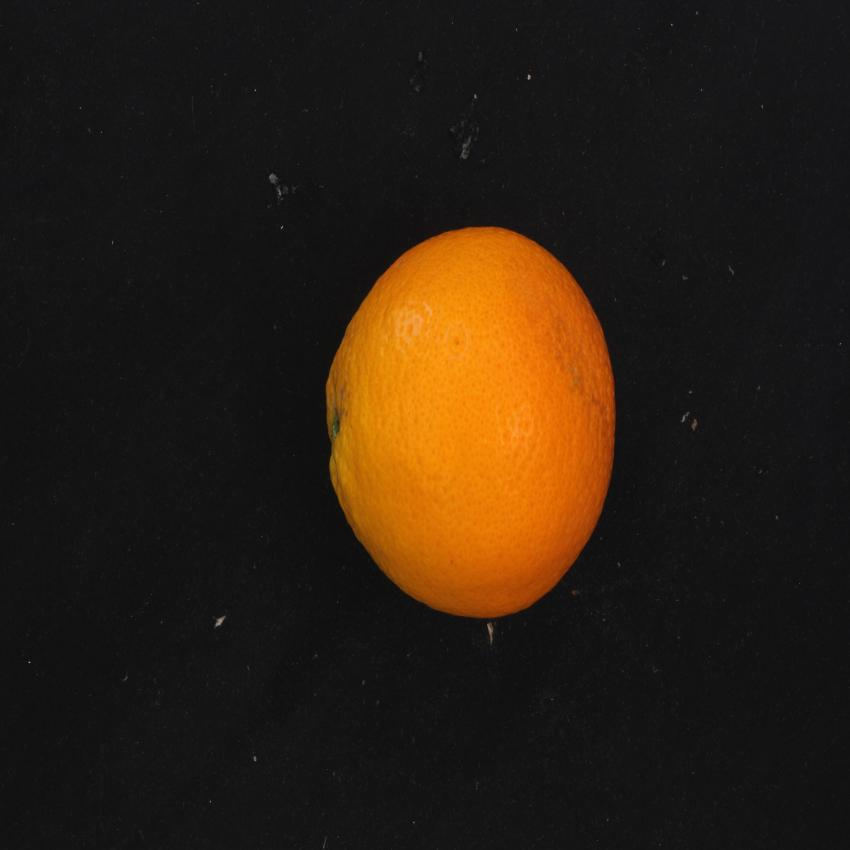Buen estado: (314, 217, 628, 628)
